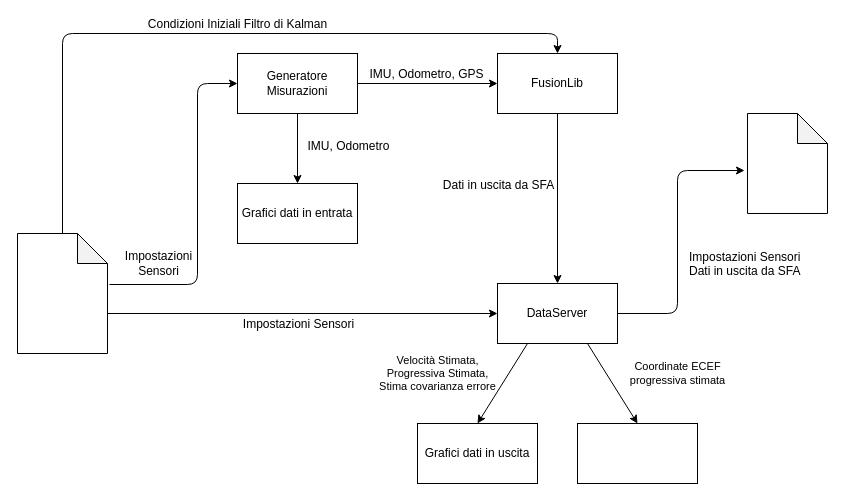
This 845x501 diagram has some shape labels left out. The centre of each missing label's shape, as x and y in pixels:
"File di Configurazione" goes at [62,293].
"Mappa" goes at [637,453].
"Report Esperimento" goes at [787,163].
